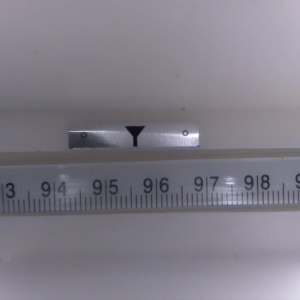3: (4, 183, 15, 198)
4: (56, 181, 66, 195)
5: (108, 178, 118, 194)
6: (159, 177, 169, 193)
7: (209, 176, 218, 191)
8: (259, 174, 269, 189)
9: (142, 177, 152, 193), (40, 181, 50, 197), (193, 176, 203, 191), (244, 175, 253, 190), (294, 173, 300, 189)
finger: (123, 126, 145, 149)
